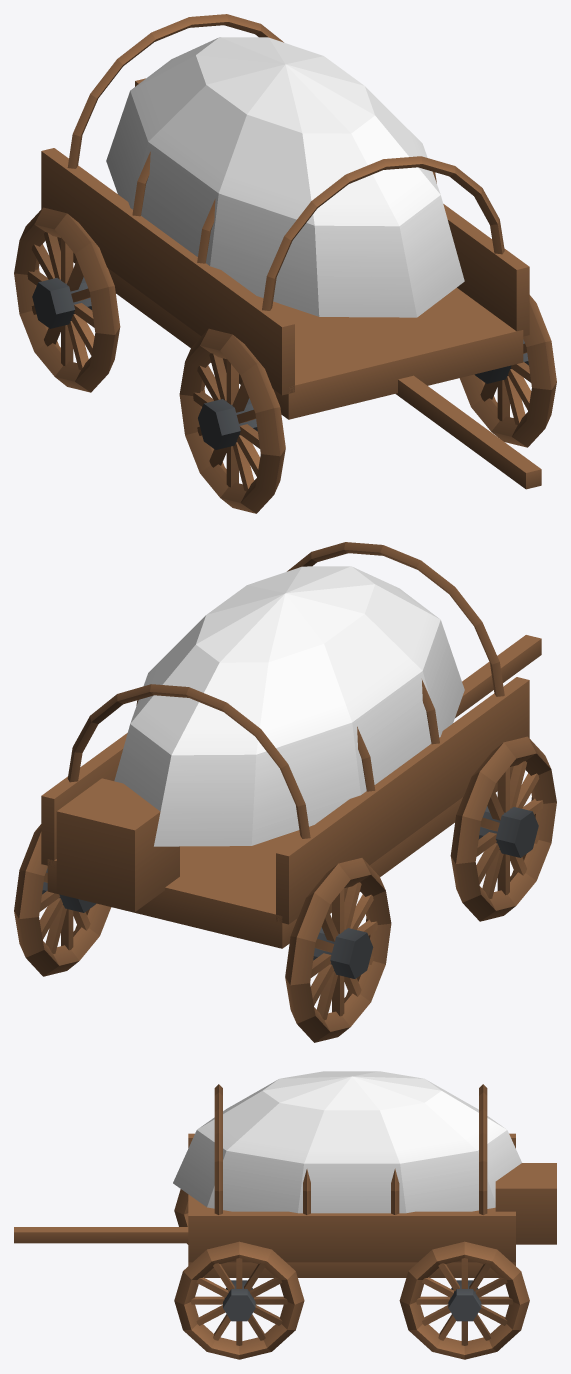
File: wagon.glb
The picture shows the model from 3 angles, top to bottom: view 1: azimuth 30°, elevation 25°; view 2: azimuth 150°, elevation 25°; view 3: azimuth 270°, elevation 25°; orthographic projection. The views are drawn at different scales.
Parts seen in each view (by area): view 1: Wagon, Wheel_2, Wheel_0, Wheel_1; view 2: Wagon, Wheel_0, Wheel_2, Wheel_3; view 3: Wagon, Wheel_1, Wheel_3, Wheel_0.
Part boxes in pixels (<box>): Wagon: <box>41,14,541,489</box>; Wheel_2: <box>14,207,120,392</box>; Wheel_0: <box>179,328,285,513</box>; Wheel_1: <box>459,295,556,447</box>; Wagon: <box>41,542,541,948</box>; Wheel_0: <box>450,736,556,921</box>; Wheel_2: <box>285,858,391,1042</box>; Wheel_3: <box>14,824,111,976</box>; Wagon: <box>14,1071,556,1277</box>; Wheel_1: <box>174,1241,304,1359</box>; Wheel_3: <box>399,1241,529,1359</box>; Wheel_0: <box>174,1189,188,1244</box>.
Size of the model in its own units: 1.22 by 1.28 by 2.65.
Materials: 1 (1 with a texture image).
